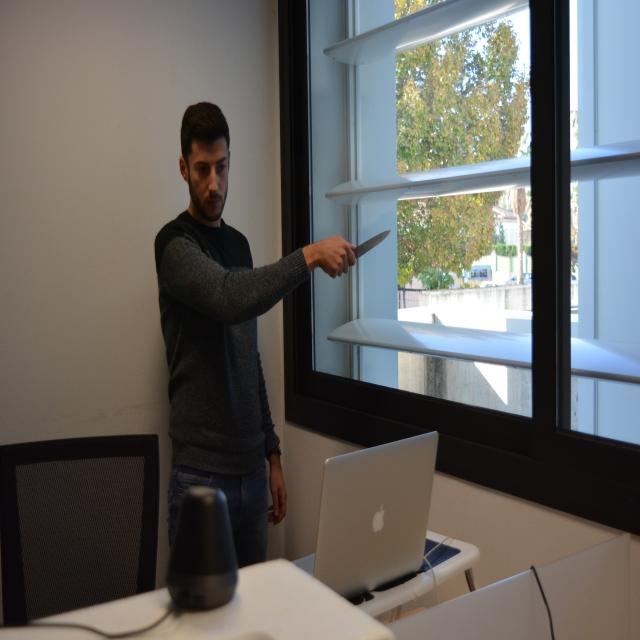knife: (353, 223, 404, 261)
